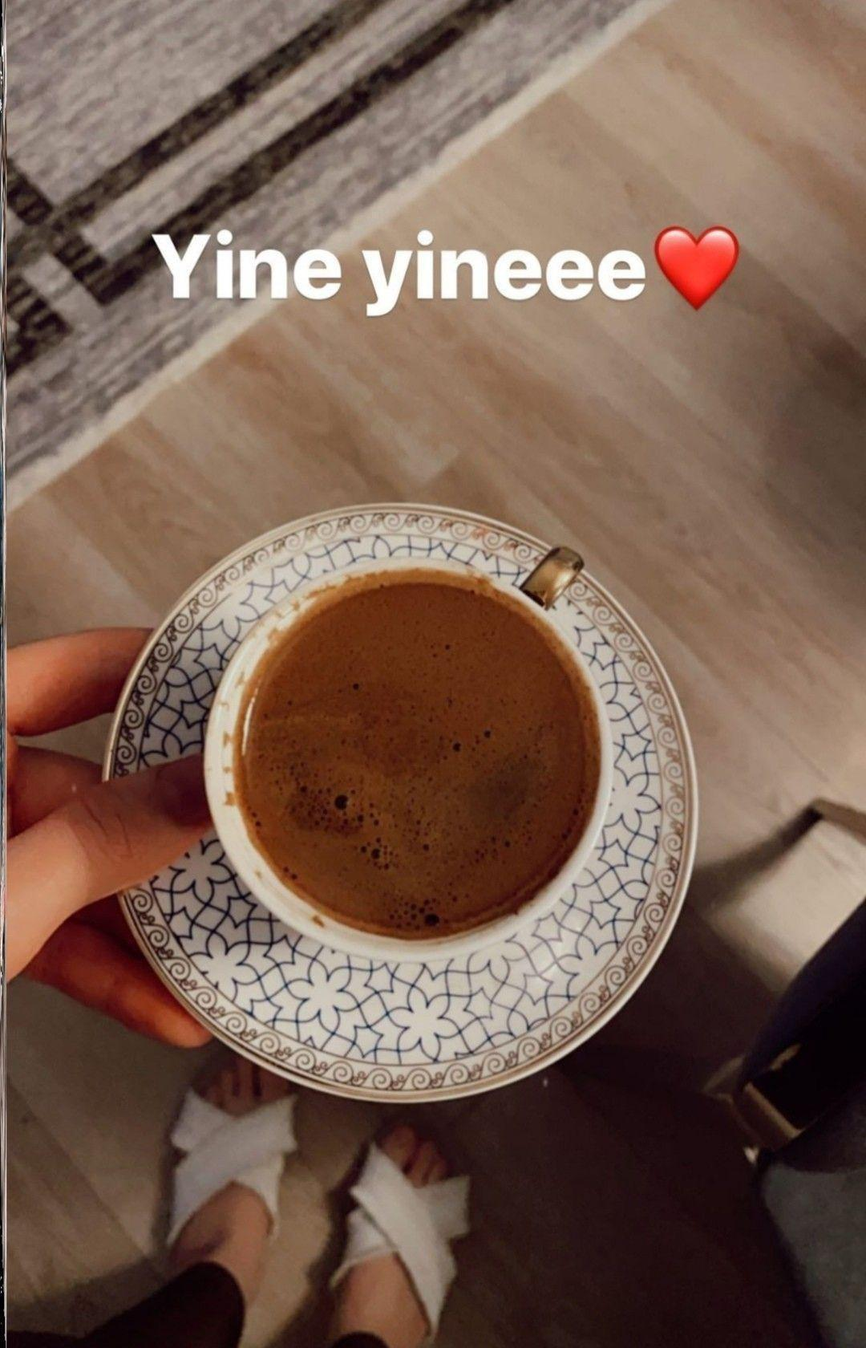cup-handle: (201, 543, 612, 967)
